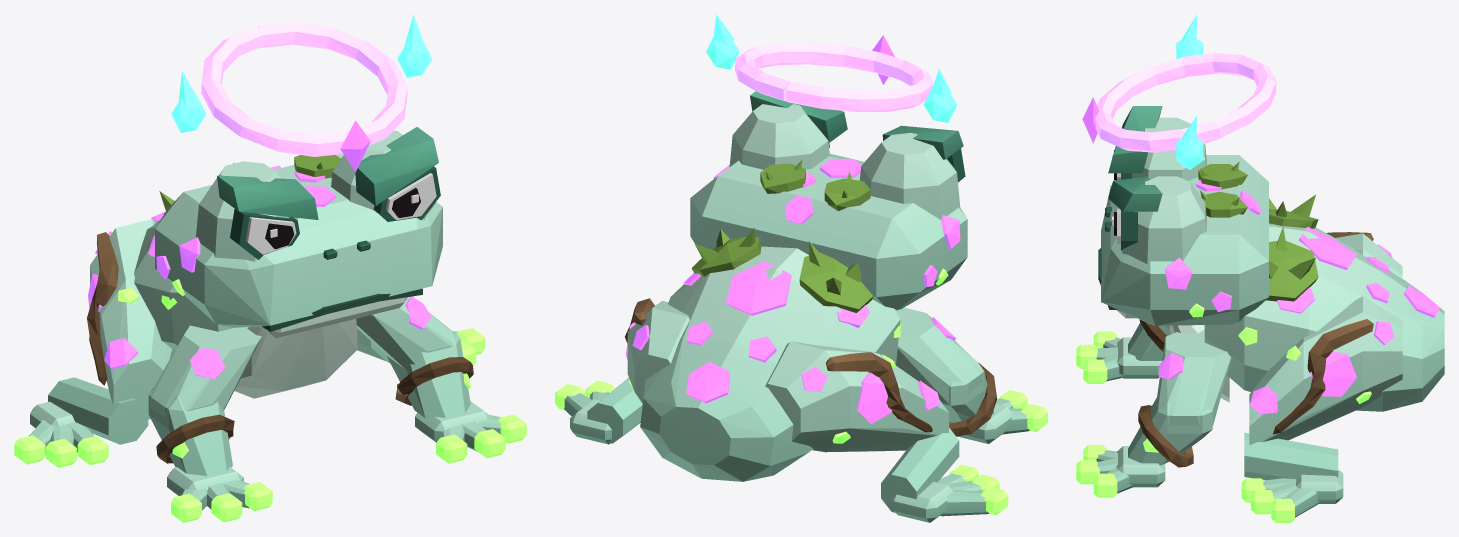
Rendered from SpiritFrog.glb.
3 renders of one model, left to right at view 1: azimuth 30°, elevation 25°; view 2: azimuth 150°, elevation 25°; view 3: azimuth 270°, elevation 25°, orthographic. The views are drawn at different scales.
Parts seen in each view (by area): view 1: SpiritFrog; view 2: SpiritFrog; view 3: SpiritFrog.
Part boxes in pixels (left/top/right/bottom): SpiritFrog: left=14, top=14, right=526, bottom=522; SpiritFrog: left=555, top=14, right=1047, bottom=522; SpiritFrog: left=1076, top=14, right=1444, bottom=522.
Size of the model in its own units: 0.9701 by 0.8001 by 0.7448.
Materials: 1 (1 with a texture image).
